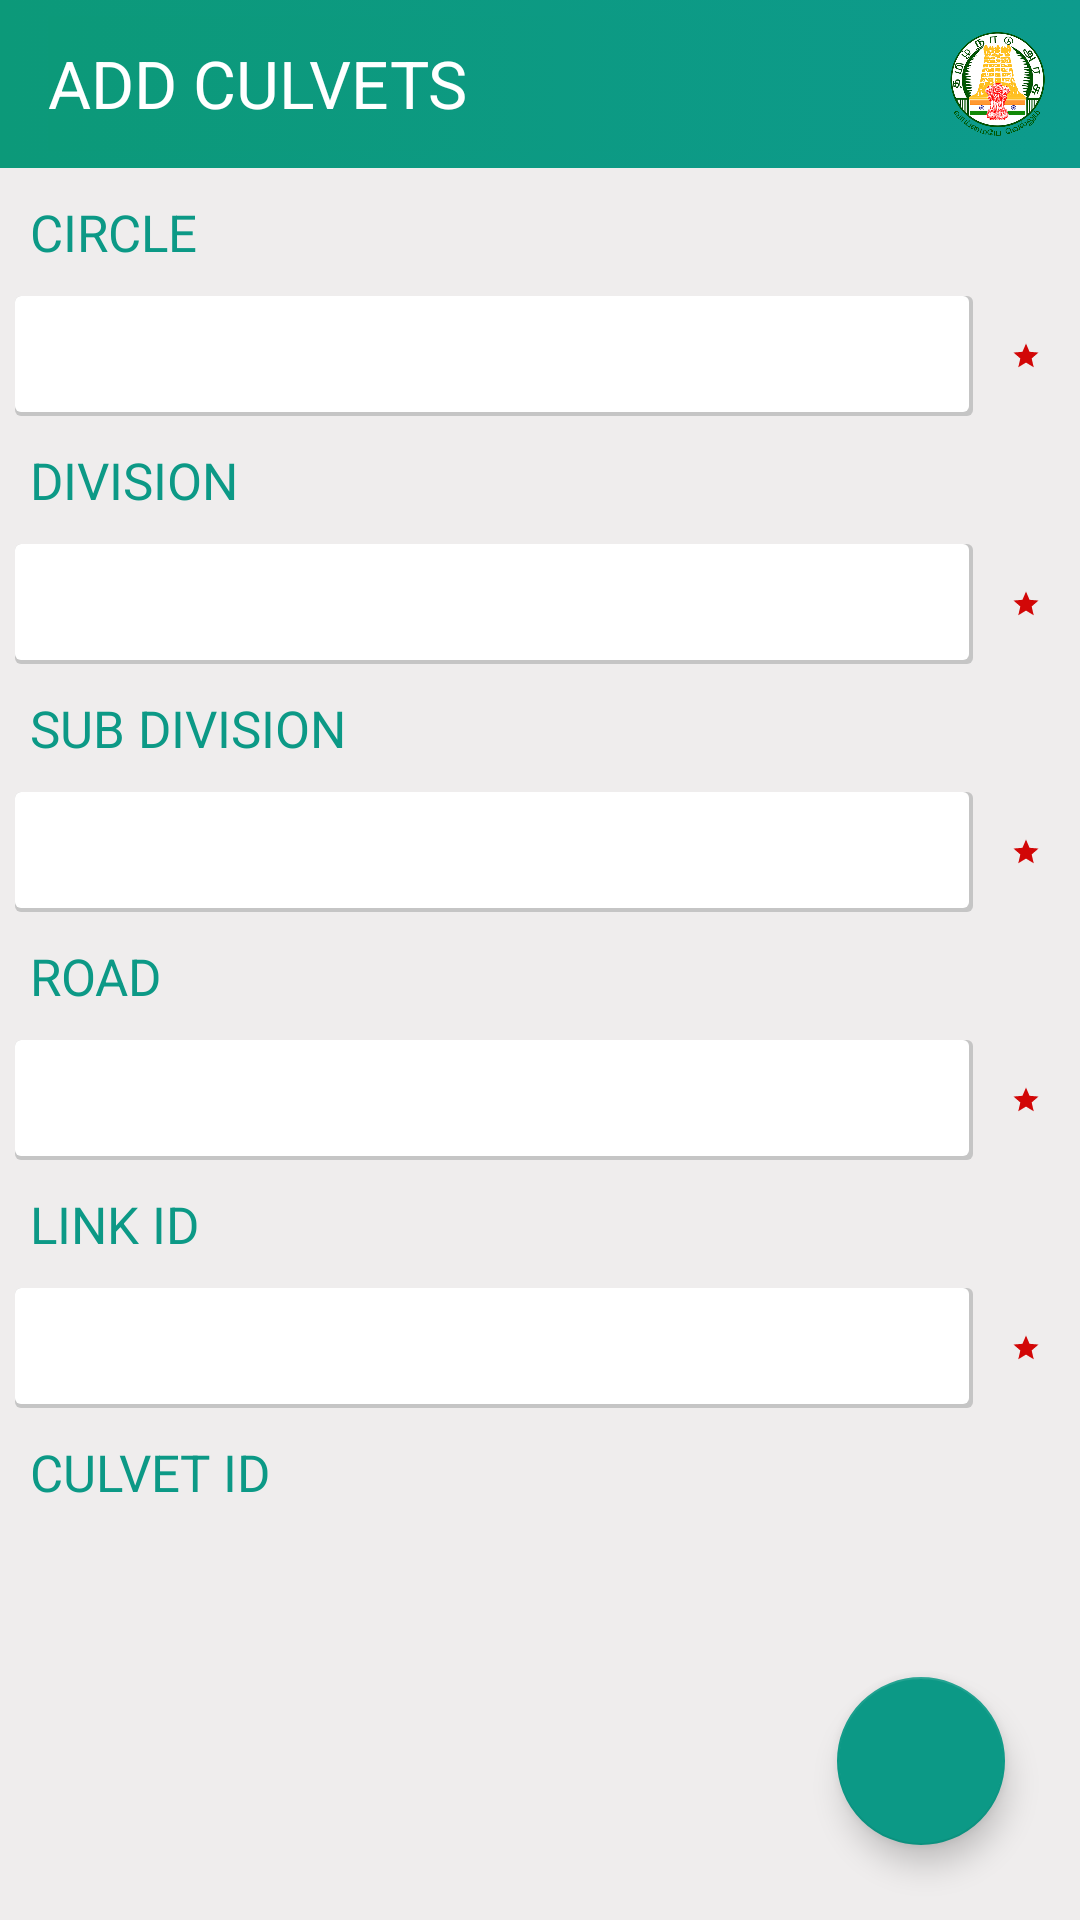

Where icons sit on this 1080px×1920px app screen, as [left=x1, top=y1, right=x2, bottom=y2]:
star: [left=1013, top=344, right=1039, bottom=367], [left=1013, top=592, right=1039, bottom=615], [left=1013, top=840, right=1039, bottom=863], [left=1013, top=1088, right=1039, bottom=1111], [left=1013, top=1336, right=1039, bottom=1359]
